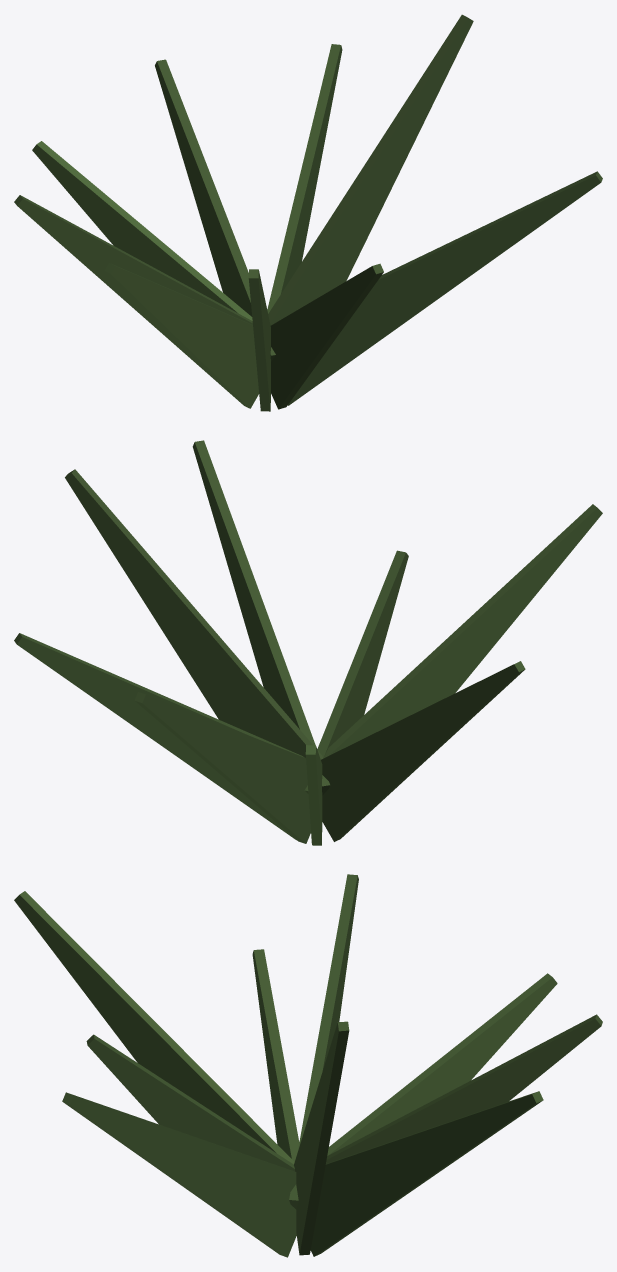
Rendered from arbusto_3.glb.
3 views of the same model, one above another, from view 1: azimuth 30°, elevation 25°; view 2: azimuth 150°, elevation 25°; view 3: azimuth 270°, elevation 25° (orthographic). The views are drawn at different scales.
Visible parts, largest first — view 1: arbusto_3.001; view 2: arbusto_3.001; view 3: arbusto_3.001.
Boxes of the visible parts, x1,y1,x2,y2 form: arbusto_3.001: (14, 14, 602, 411); arbusto_3.001: (14, 440, 602, 845); arbusto_3.001: (14, 874, 602, 1257).
Bounding box in the file's own units: 1.07 × 0.717 × 1.12.
